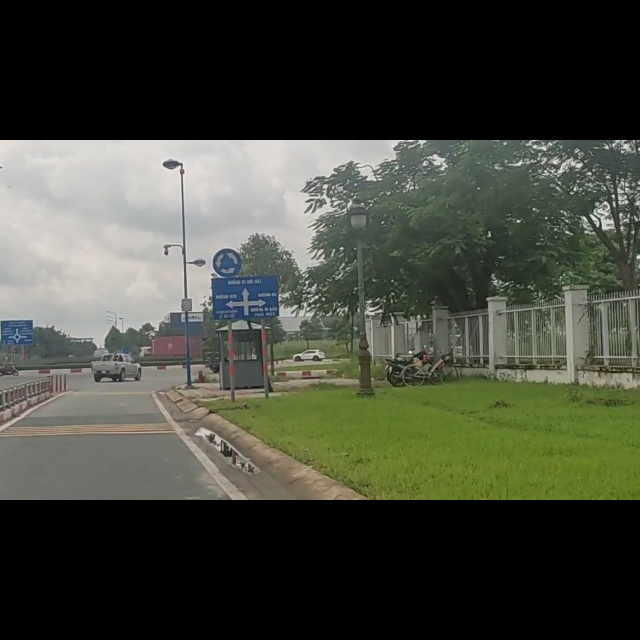bien_chi_dan: (209, 193, 243, 241)
